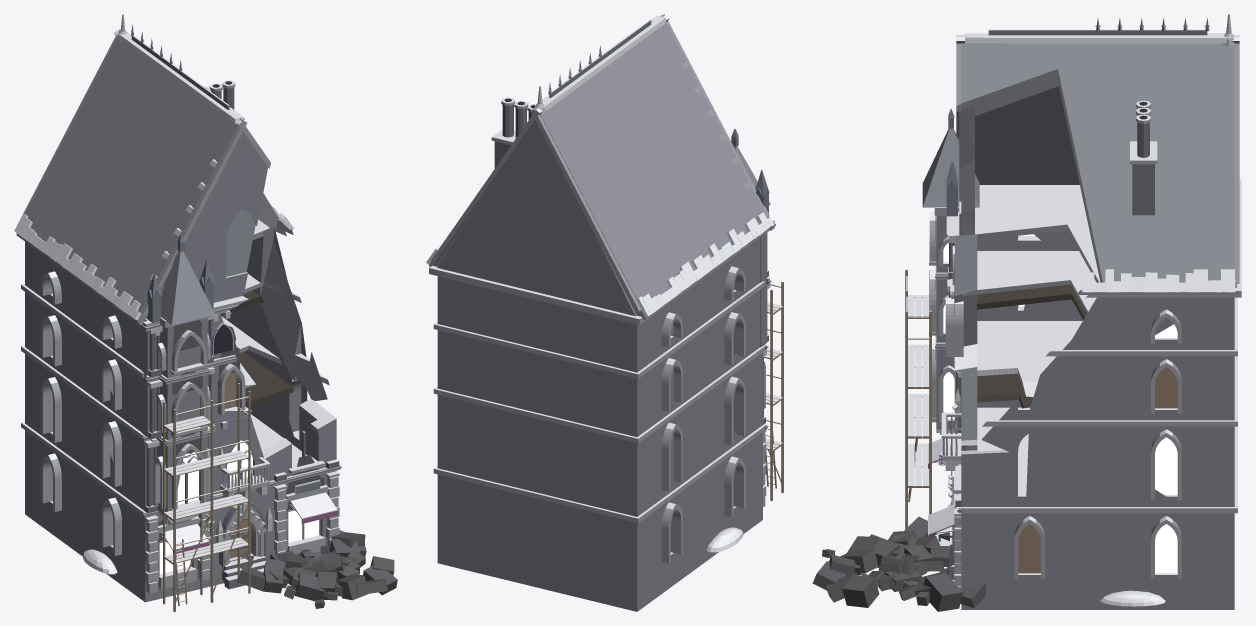
Rendered from AR_Cidade_Sobrado_Quebrada.fbx.
The picture shows the model from 3 angles, left to right: view 1: azimuth 30°, elevation 25°; view 2: azimuth 150°, elevation 25°; view 3: azimuth 270°, elevation 25°; orthographic projection. The views are drawn at different scales.
Visible parts, largest first — view 1: AR_Cidade_Sobrado_Quebrada; view 2: AR_Cidade_Sobrado_Quebrada; view 3: AR_Cidade_Sobrado_Quebrada.
Part boxes in pixels (x1,y1,x2,y2): AR_Cidade_Sobrado_Quebrada: [14, 14, 397, 611]; AR_Cidade_Sobrado_Quebrada: [426, 14, 783, 611]; AR_Cidade_Sobrado_Quebrada: [812, 14, 1241, 611].
Size of the model in its own units: 13.02 by 26.3 by 18.84.
